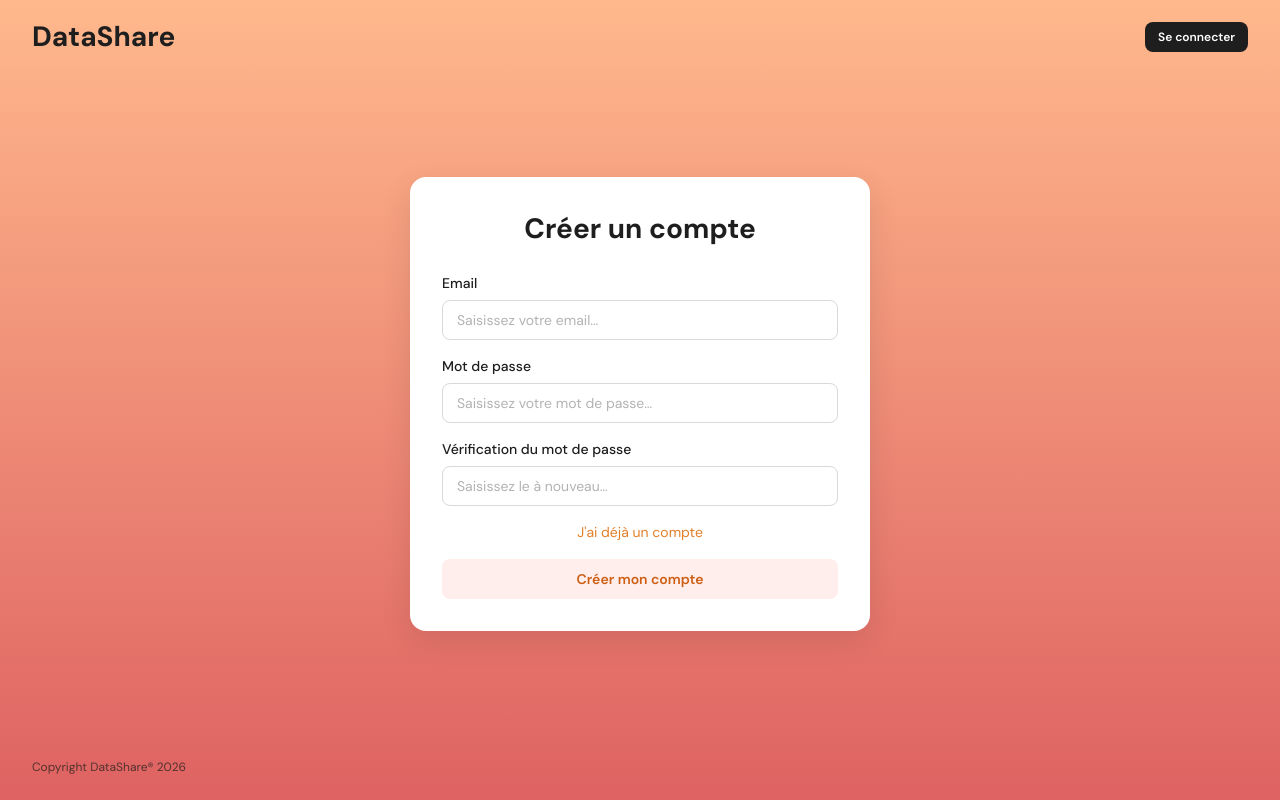
RegisterPage › signale les mots de passe non concordants
Type "a@b.fr" into the field labelled "Email".
click(640, 320); type("a@b.fr")  # box x1=442 y1=300 x2=838 y2=340
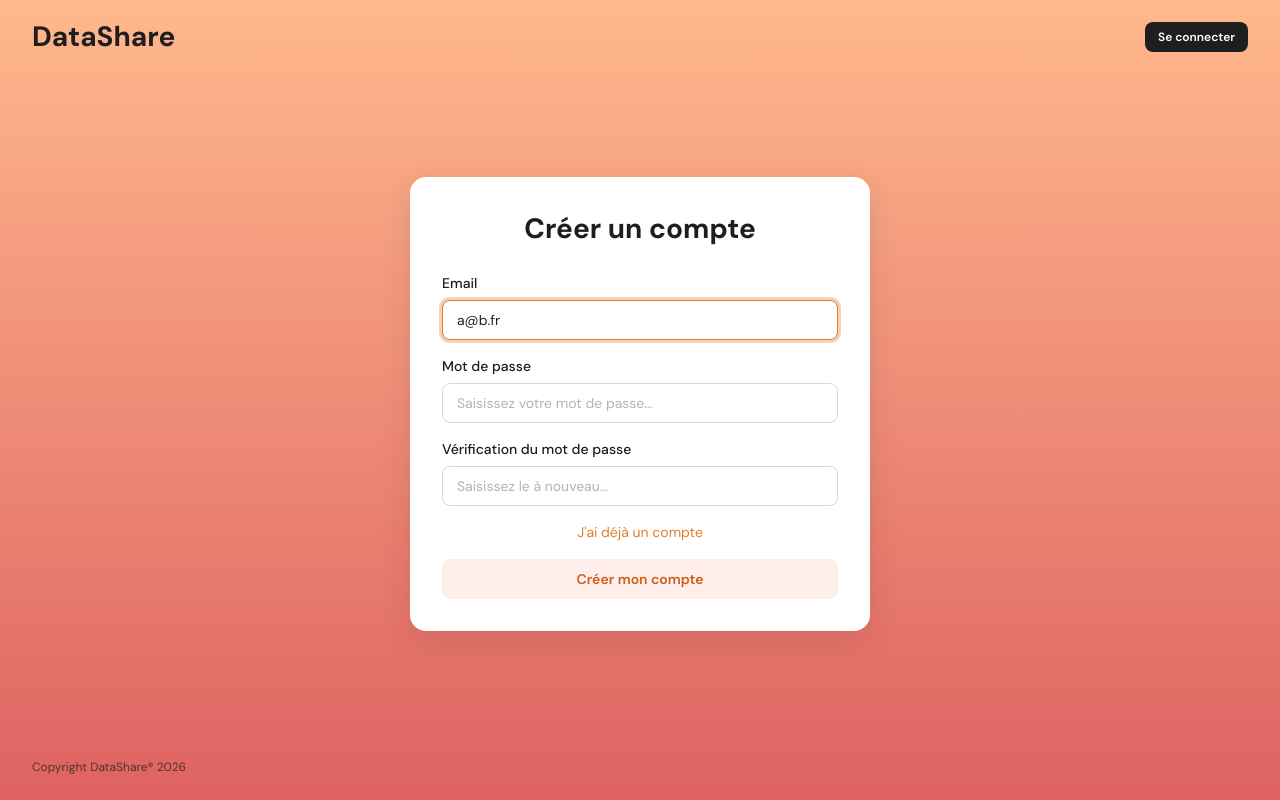
Type "motdepasse" into the password field labelled "Mot de passe".
click(640, 403); type("motdepasse")  # box x1=442 y1=383 x2=838 y2=423
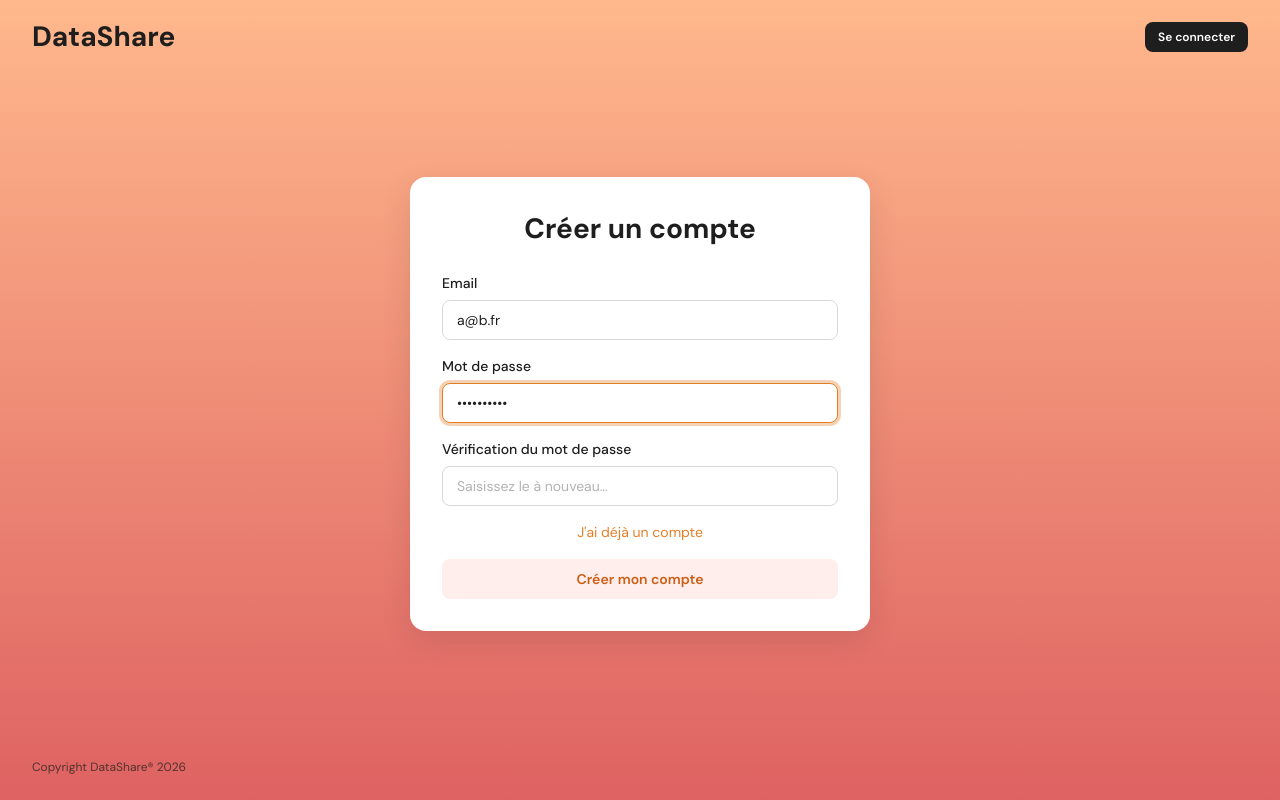
Type "different" into the password field labelled "Vérification du mot de passe".
click(640, 486); type("different")  # box x1=442 y1=466 x2=838 y2=506
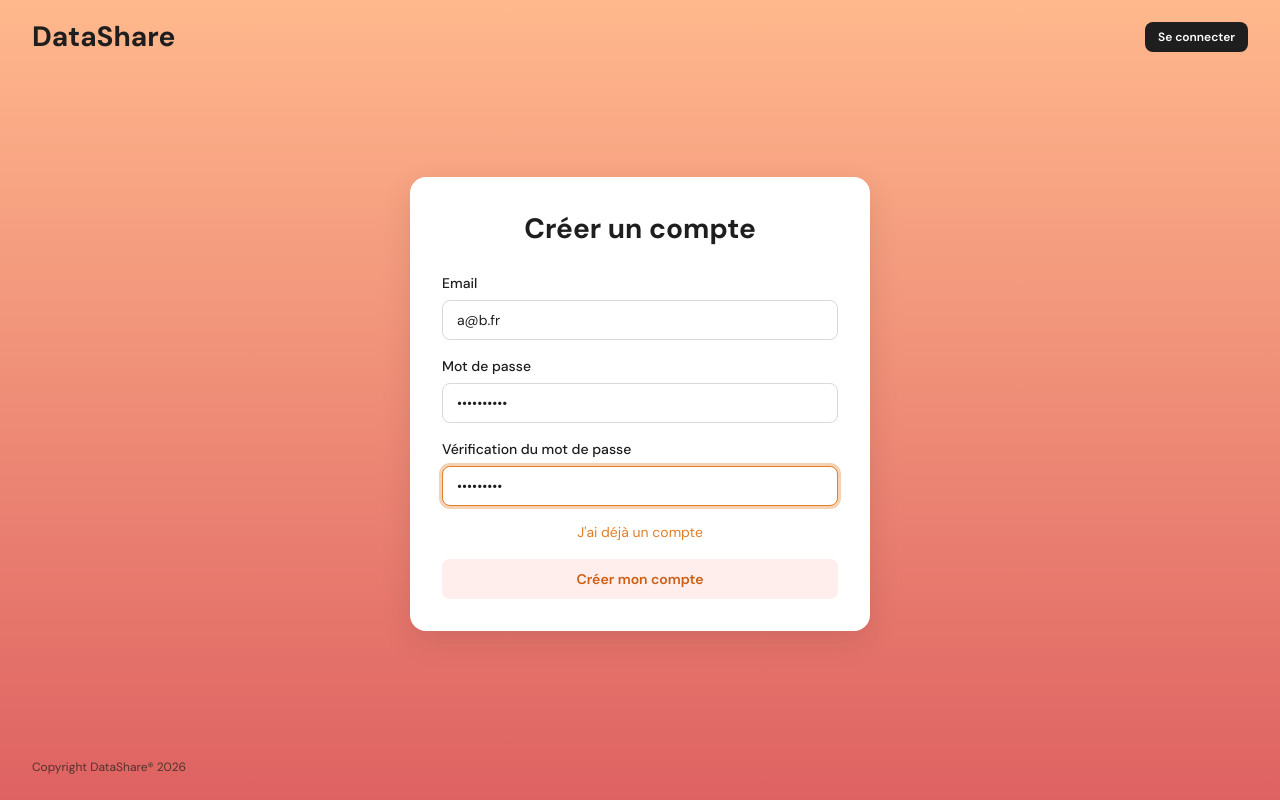
Click the button "Créer mon compte".
click(640, 579)  # box x1=442 y1=559 x2=838 y2=599
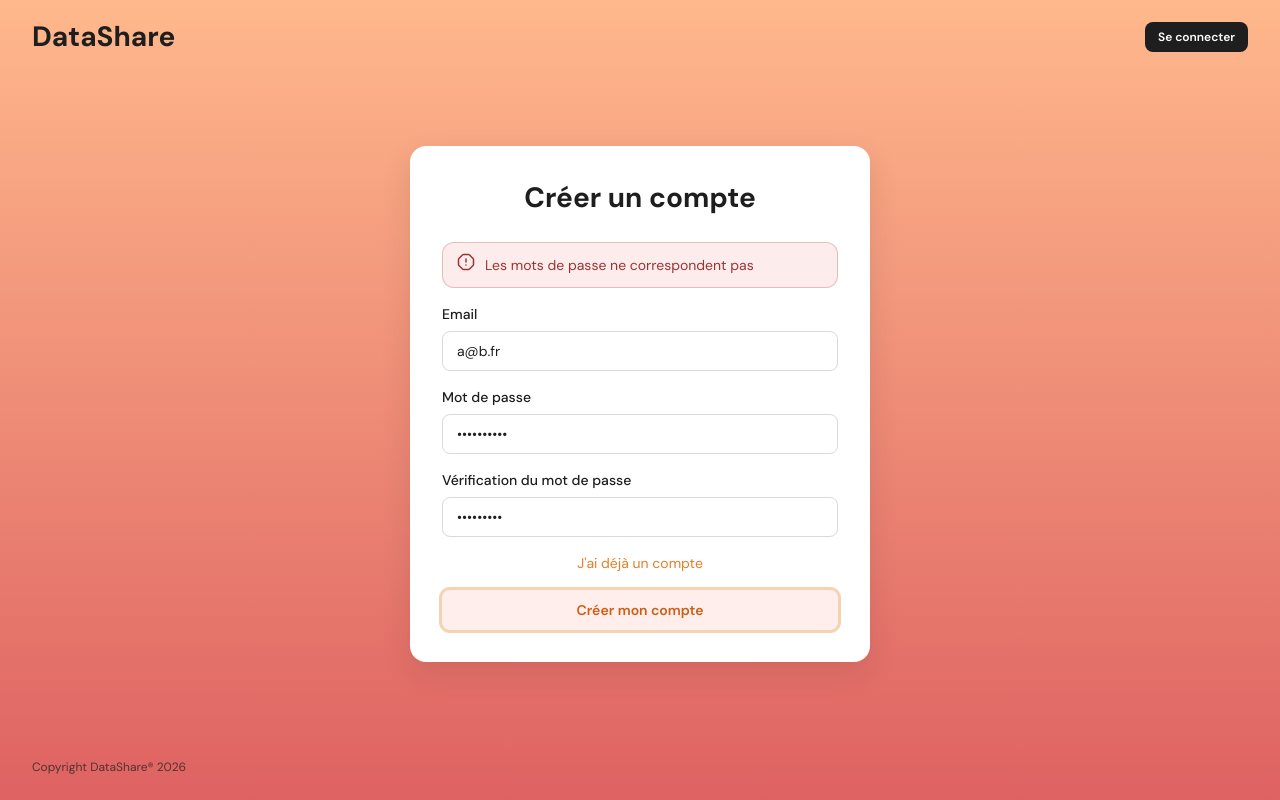
Expected: the text "Les mots de passe ne correspondent pas" is shown, x1=485 y1=254 x2=754 y2=276
